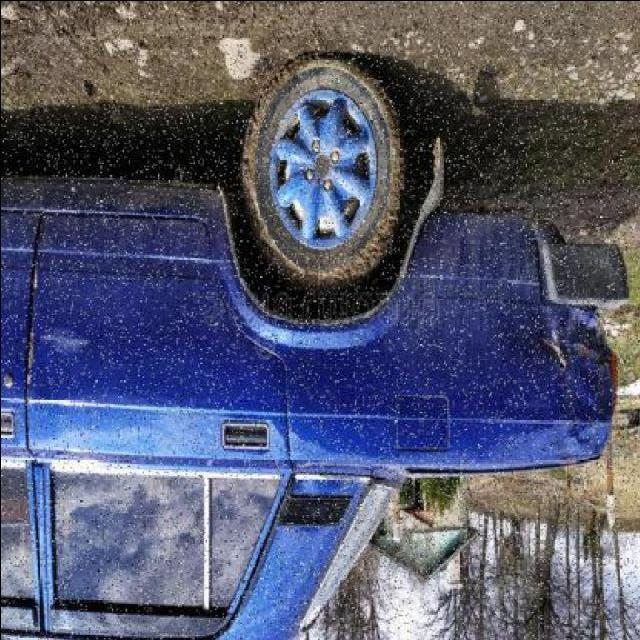doorouter-dent: (33, 214, 285, 466)
quaterpanel-dent: (285, 250, 603, 469)
